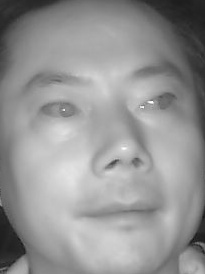eye: (37, 96, 82, 123), (135, 91, 179, 115)
mouth: (78, 189, 164, 236)
